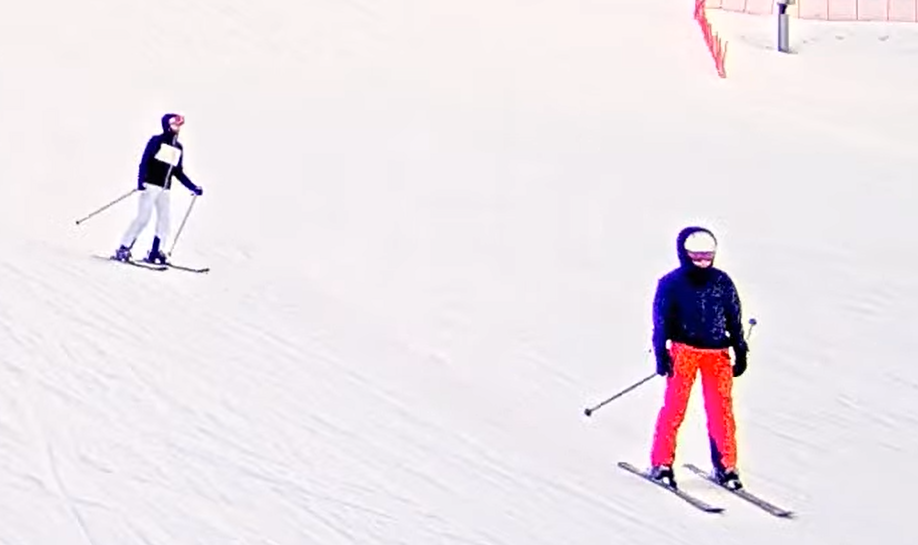skier: (583, 224, 799, 519), (75, 111, 212, 274)
